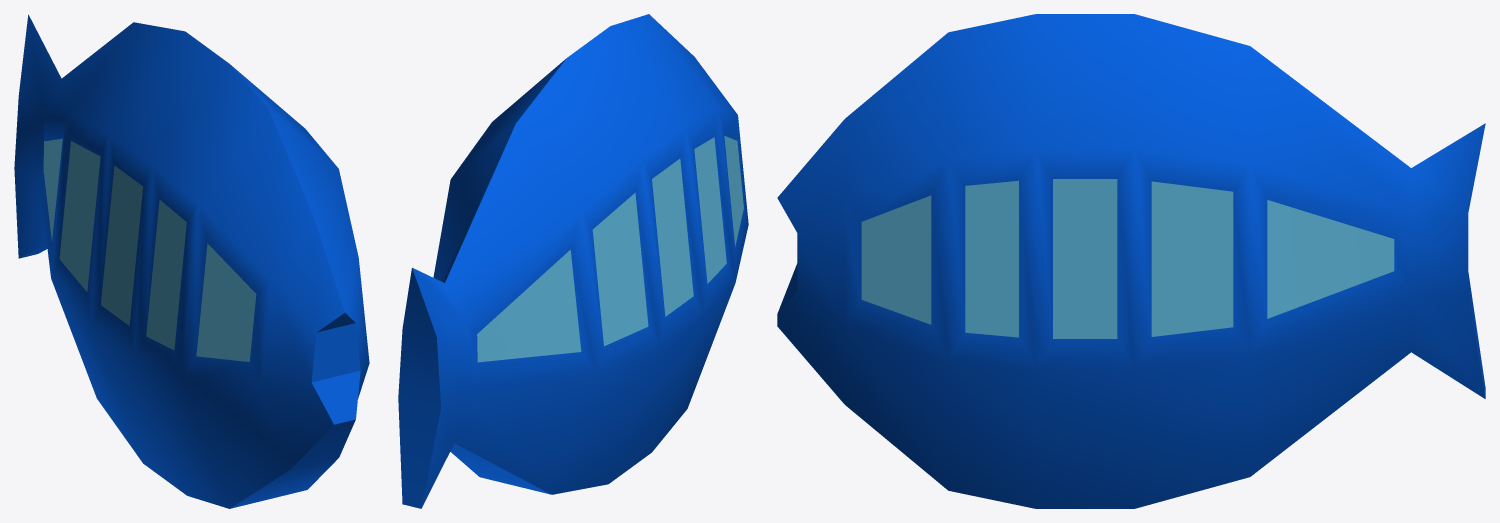
The model's file is lowPolyFish4.fbx.
The picture shows the model from 3 angles, left to right: view 1: azimuth 30°, elevation 25°; view 2: azimuth 150°, elevation 25°; view 3: azimuth 270°, elevation 25°; orthographic projection. The views are drawn at different scales.
Parts seen in each view (by area): view 1: Fish.003; view 2: Fish.003; view 3: Fish.003.
Part boxes in pixels (left/top/right/bottom): Fish.003: left=14, top=14, right=369, bottom=508; Fish.003: left=398, top=14, right=748, bottom=508; Fish.003: left=777, top=14, right=1485, bottom=508.
Size of the model in its own units: 82.34 by 175 by 238.
